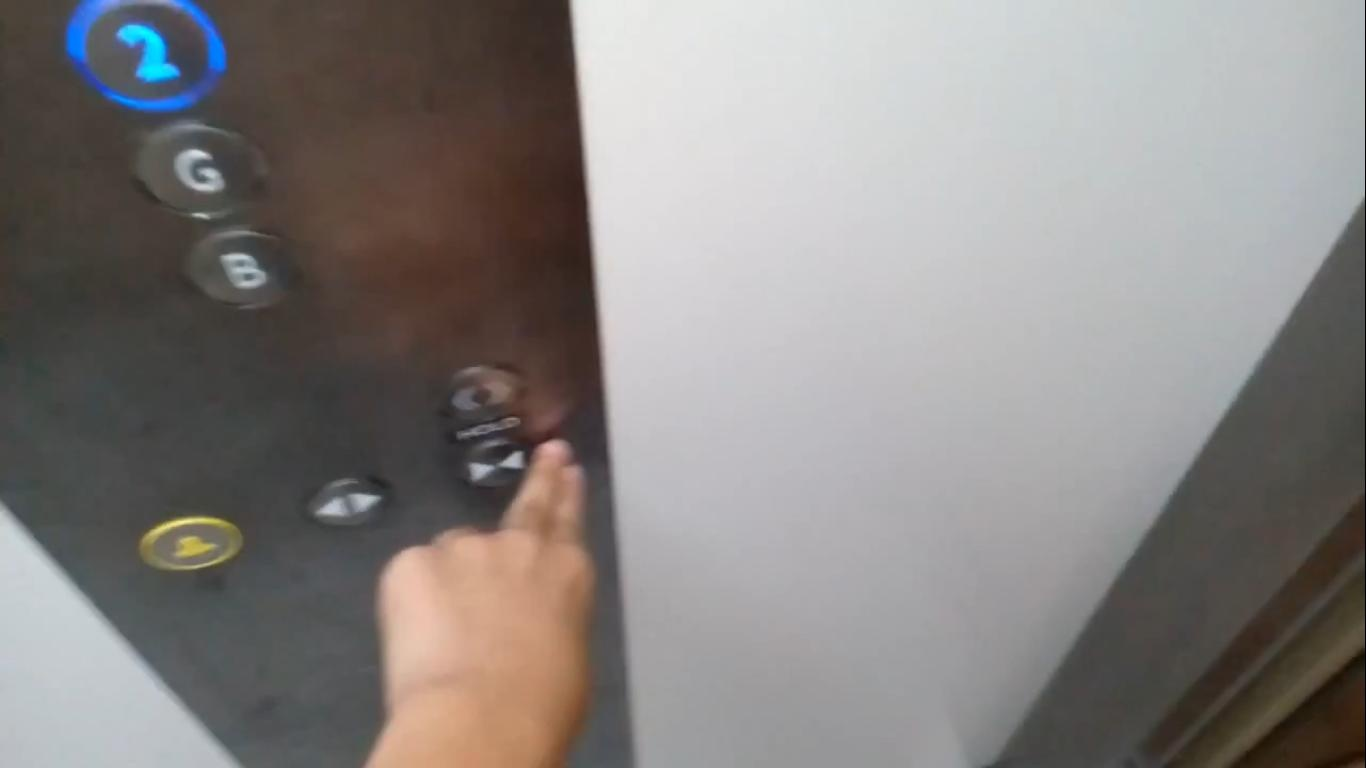2: (63, 1, 226, 111)
B: (183, 226, 294, 313)
G: (128, 120, 266, 221)
alarm: (136, 514, 243, 573)
close: (455, 434, 531, 496)
open: (429, 360, 525, 426), (307, 476, 387, 530)
